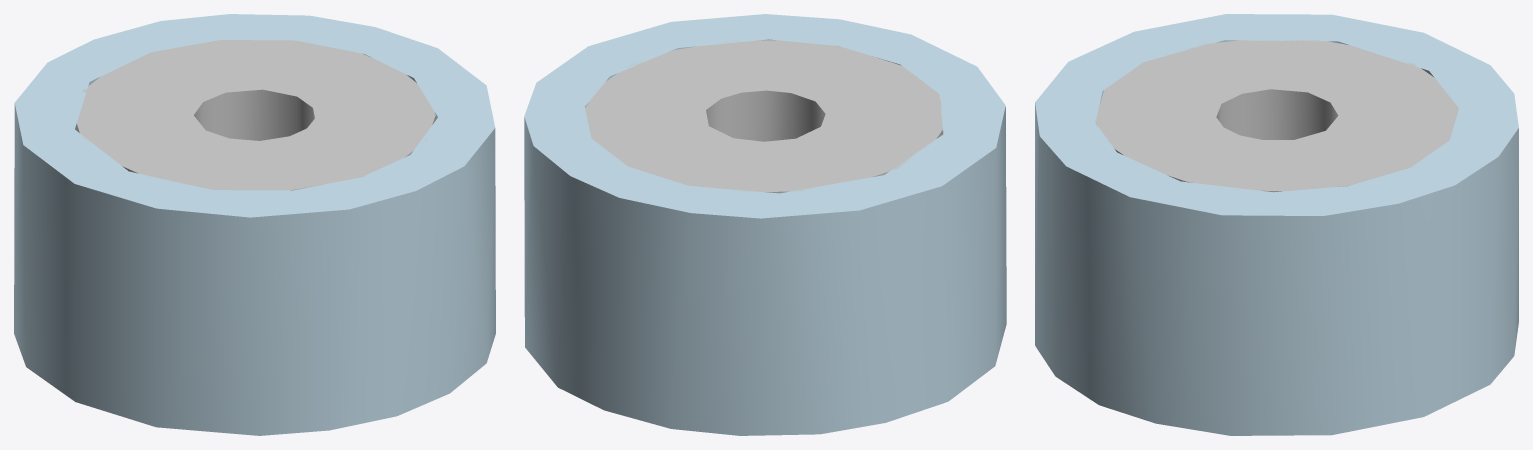
Rendered from TwoInStealth.fbx.
3 views of the same model, side by side, from view 1: azimuth 30°, elevation 25°; view 2: azimuth 150°, elevation 25°; view 3: azimuth 270°, elevation 25° (orthographic).
Parts seen in each view (by area): view 1: Part 1, Part 2; view 2: Part 1, Part 2; view 3: Part 1, Part 2.
Part boxes in pixels (left/top/right/bottom): Part 1: left=14, top=14, right=495, bottom=435; Part 2: left=76, top=40, right=435, bottom=190; Part 1: left=524, top=14, right=1006, bottom=435; Part 2: left=585, top=40, right=942, bottom=193; Part 1: left=1035, top=14, right=1518, bottom=435; Part 2: left=1095, top=39, right=1458, bottom=192.
Size of the model in its own units: 5.01 by 2.54 by 5.07.
